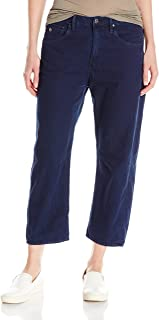jeans: (23, 19, 157, 245)
